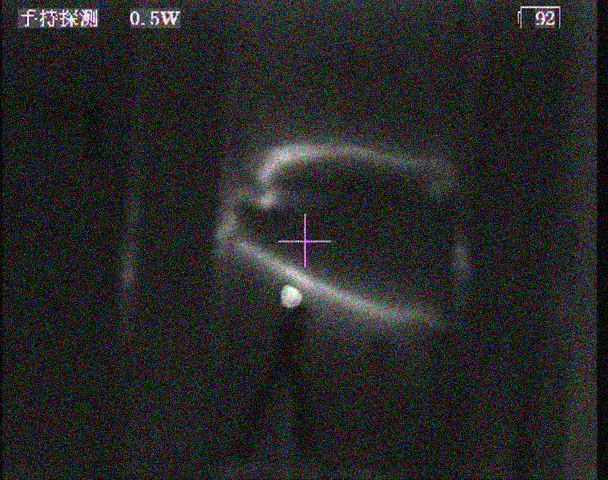my: (278, 282, 303, 310)
